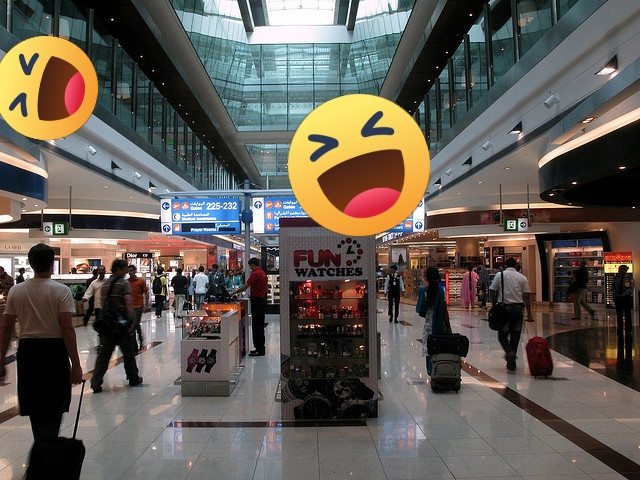haha: (288, 94, 430, 236), (0, 36, 98, 140)
